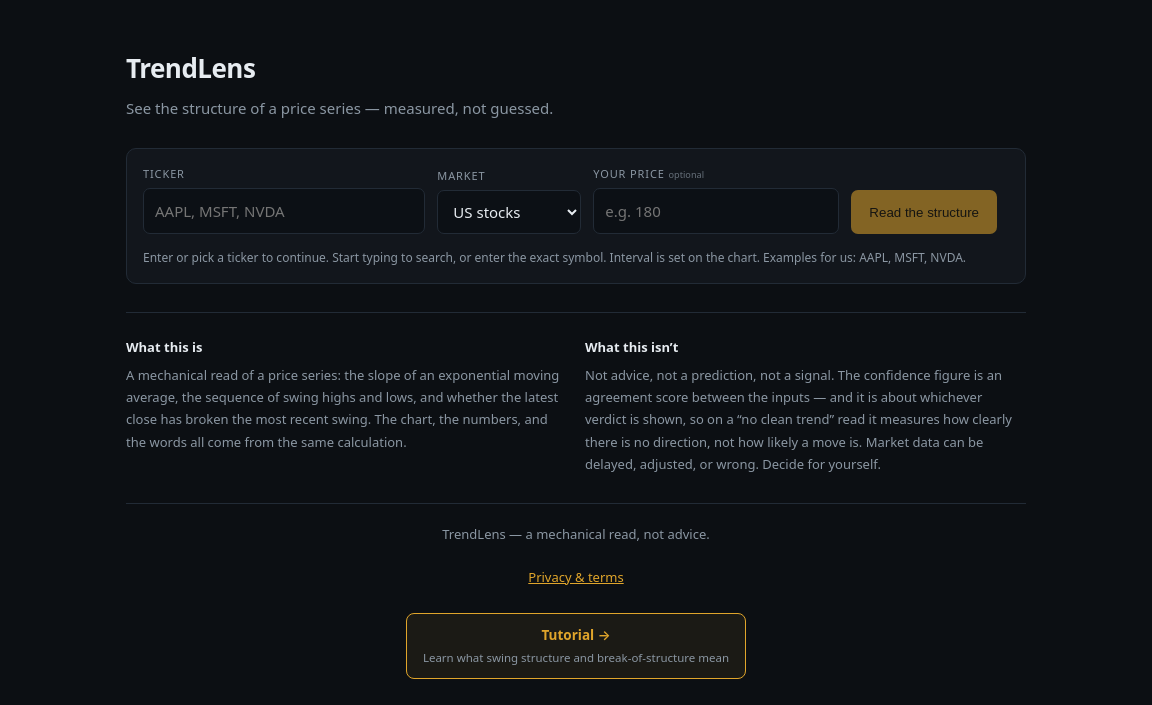
Scenario: App: switching interval › clears the result when a NEW search fails
The image size is (1152, 705).
Type "AAPL" into the dropdown named "ticker symbol" at (284, 211), box x1=143 y1=188 x2=425 y2=234
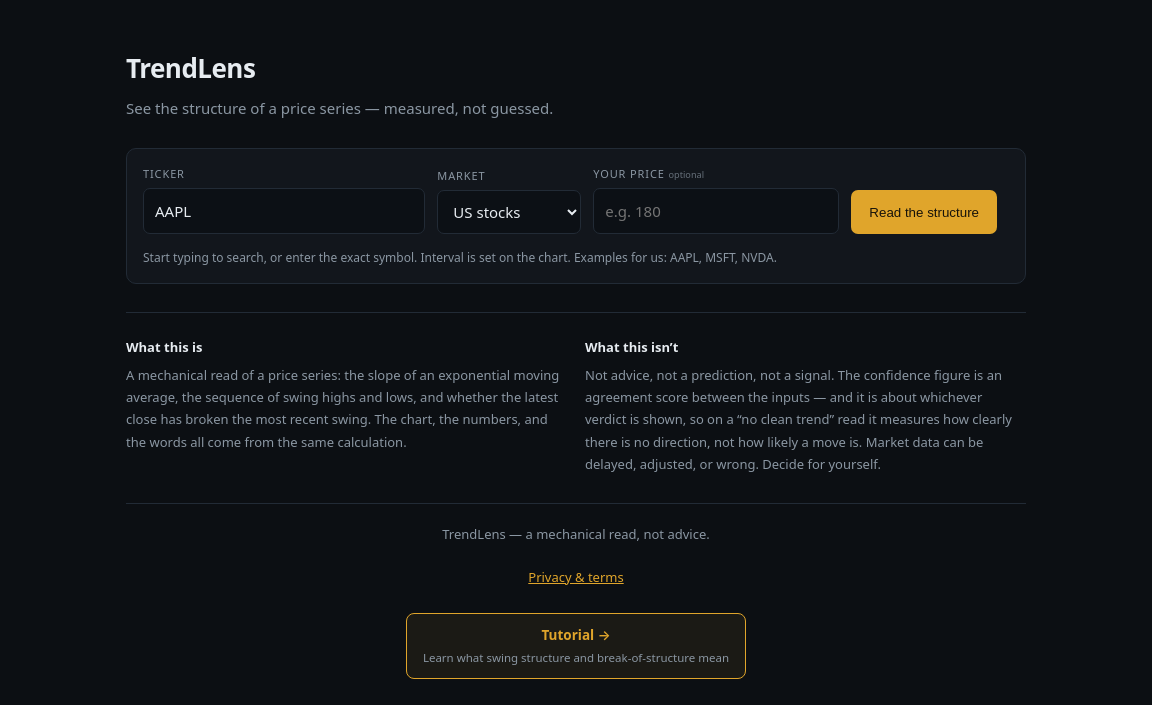
Click the button "Read the structure" at (924, 212), box x1=851 y1=190 x2=997 y2=234
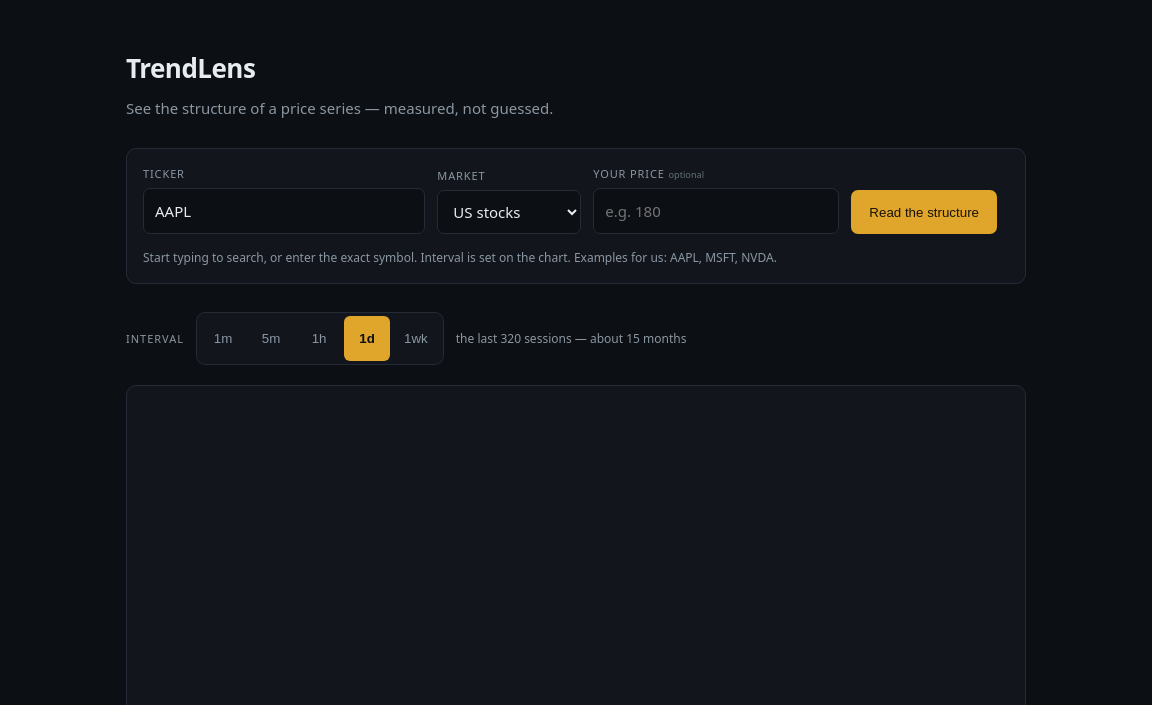
Replace the text in the dropdown named "ticker symbol" with "ZZZZ" at (284, 211), box x1=143 y1=188 x2=425 y2=234
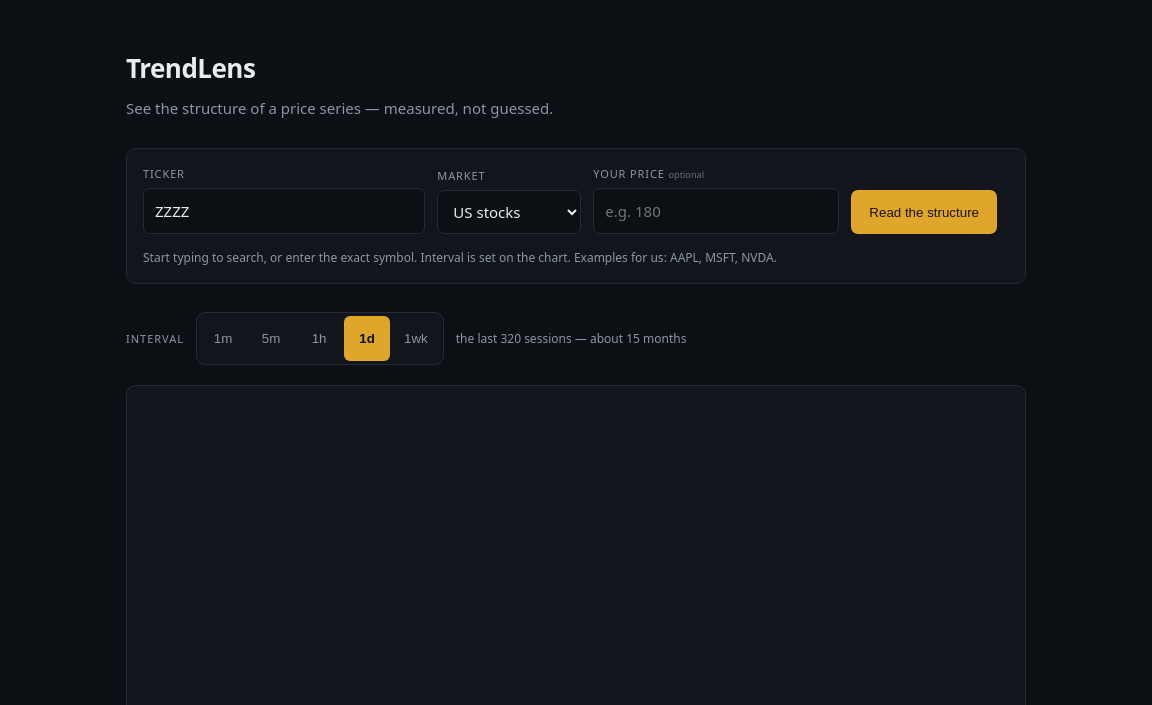
Click the button "Read the structure" at (924, 212), box x1=851 y1=190 x2=997 y2=234
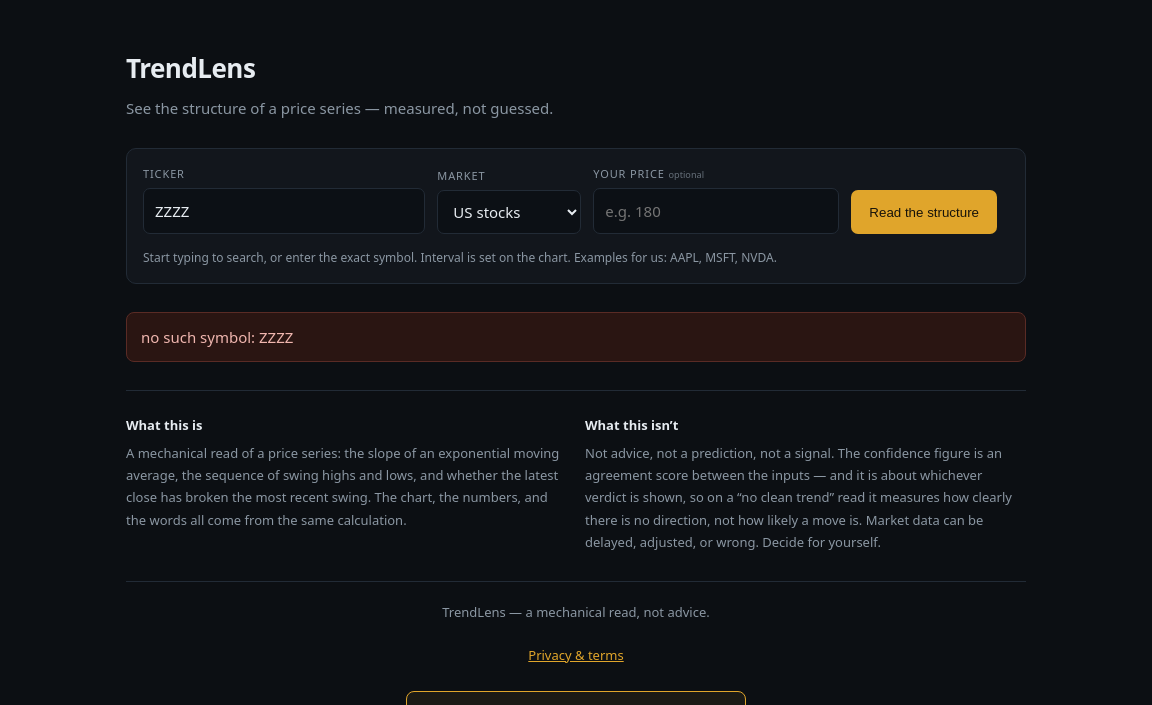
Expected: the message "no such symbol: ZZZZ" is shown, x1=126 y1=312 x2=1026 y2=362
Expected: the element with test id "chart" is gone
